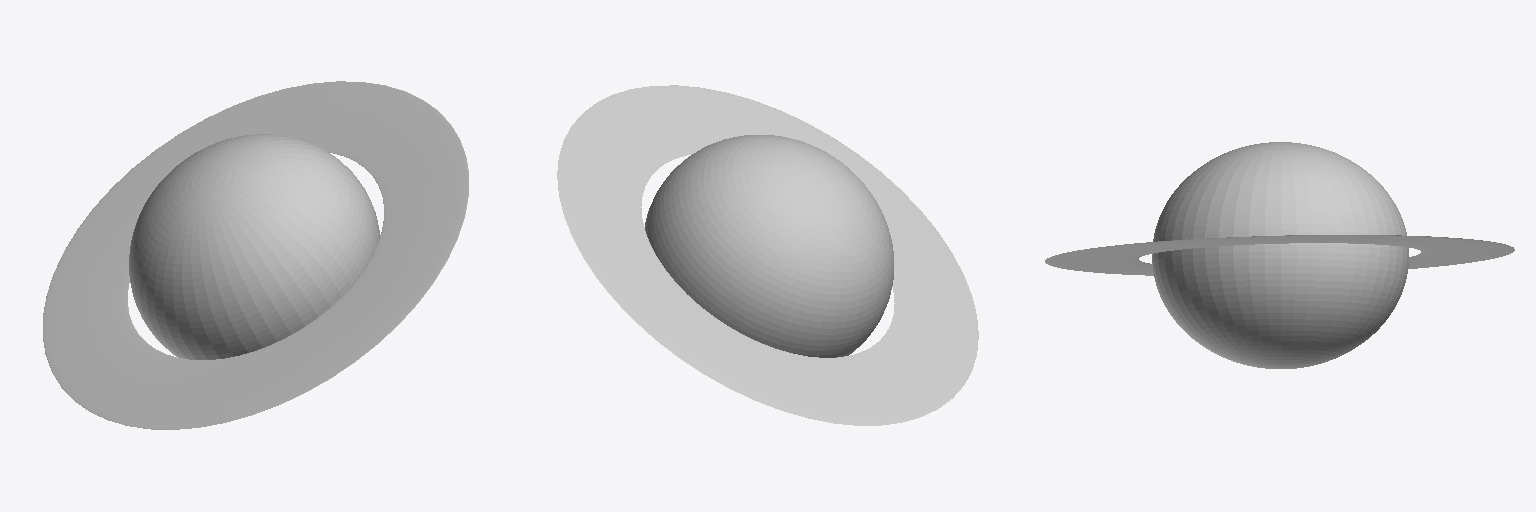
The model's file is Saturn.obj.
3 renders of one model, left to right at view 1: azimuth 30°, elevation 25°; view 2: azimuth 150°, elevation 25°; view 3: azimuth 270°, elevation 25°, orthographic.
Visible parts, largest first — view 1: group1 pTorus1, pSphere7 group1; view 2: group1 pTorus1, pSphere7 group1; view 3: pSphere7 group1, group1 pTorus1.
Boxes of the visible parts, x1,y1,x2,y2 form: group1 pTorus1: [43, 81, 468, 429]; pSphere7 group1: [129, 134, 379, 359]; group1 pTorus1: [557, 85, 978, 425]; pSphere7 group1: [645, 135, 893, 357]; pSphere7 group1: [1152, 142, 1408, 368]; group1 pTorus1: [1045, 235, 1514, 275].
Bounding box in the file's own units: 9.5 × 5.48 × 10.96.